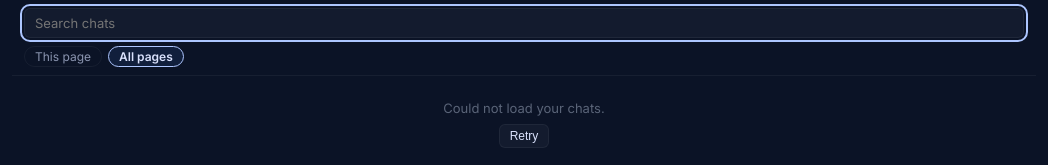
Test case: AiChatHistory list › shows an error with a Retry that loads the list again
Expected: the element with test id "ai-chat-history-error" is shown, top-left (443, 100), bottom-right (605, 148)
Click the button with test id "ai-chat-history-retry" at (524, 136), box top-left (499, 124), bottom-right (549, 148)
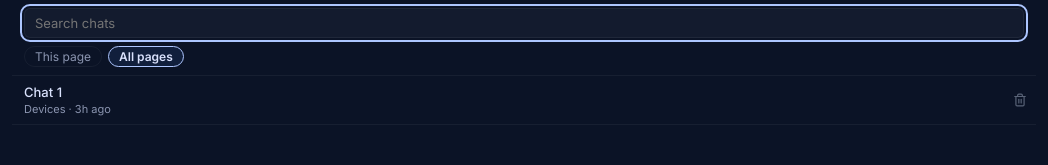
Expected: the button with test id "ai-chat-history-item-1" is shown, top-left (12, 76), bottom-right (1004, 124)
